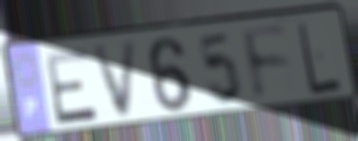5: (195, 29, 243, 108)
6: (146, 34, 196, 115)
E: (42, 47, 100, 128)
F: (239, 23, 294, 105)
L: (296, 20, 344, 98)
V: (90, 38, 140, 123)
